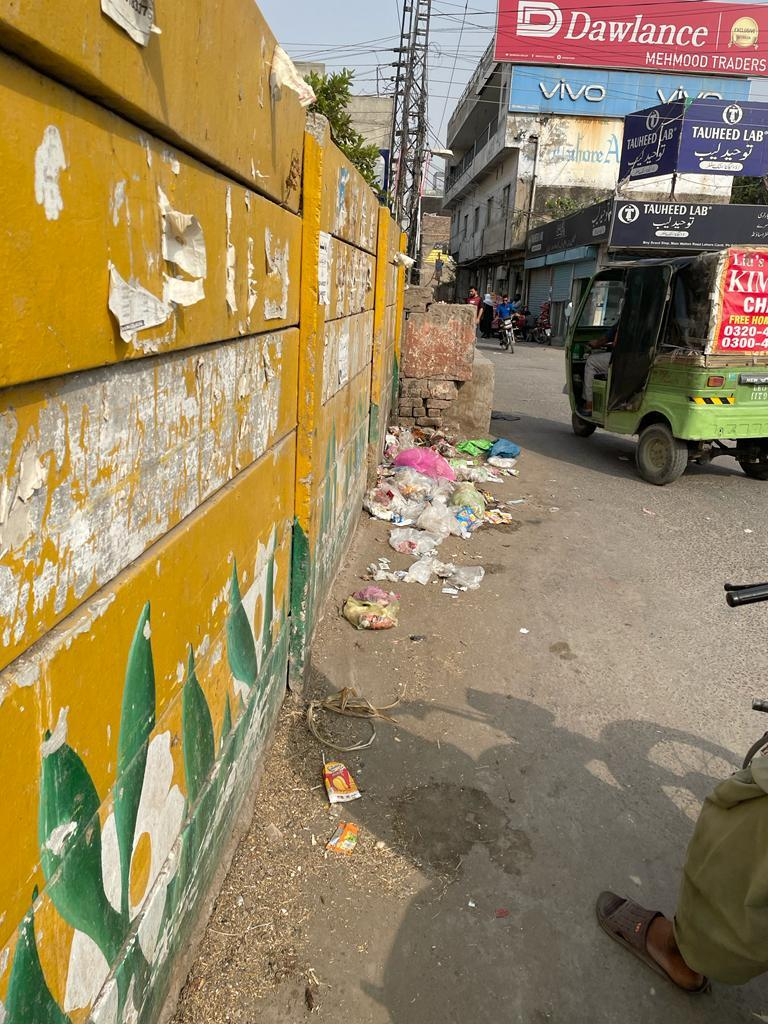garbage: (322, 390, 540, 631)
